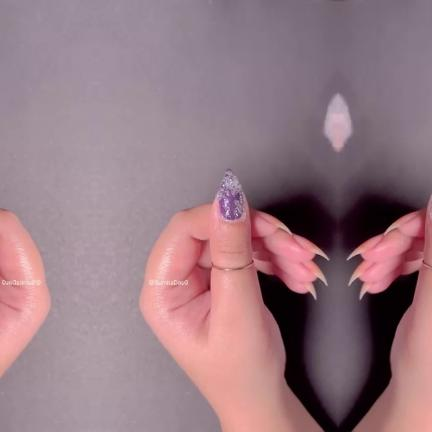Nail: (218, 168, 243, 220), (291, 234, 328, 260), (346, 234, 383, 260), (256, 211, 292, 236), (382, 211, 418, 236), (300, 260, 326, 286), (348, 260, 374, 286), (301, 282, 315, 300), (359, 282, 373, 300), (431, 193, 432, 215)
